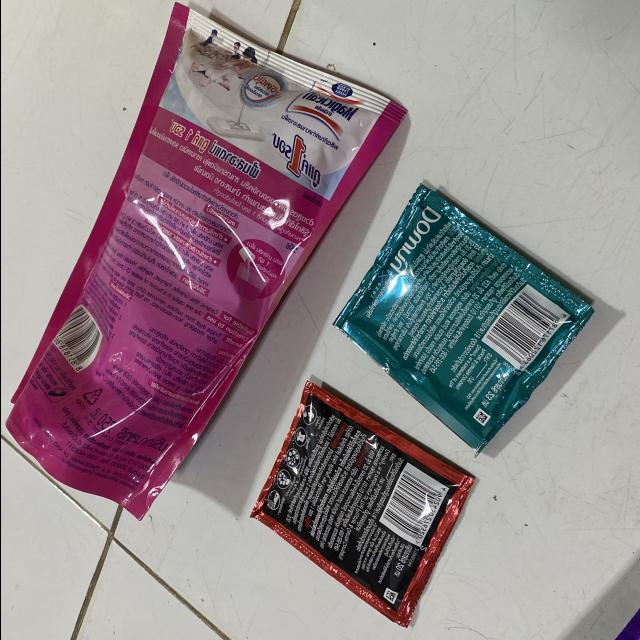plastik: (6, 3, 404, 518), (334, 185, 593, 452), (250, 382, 472, 628)
